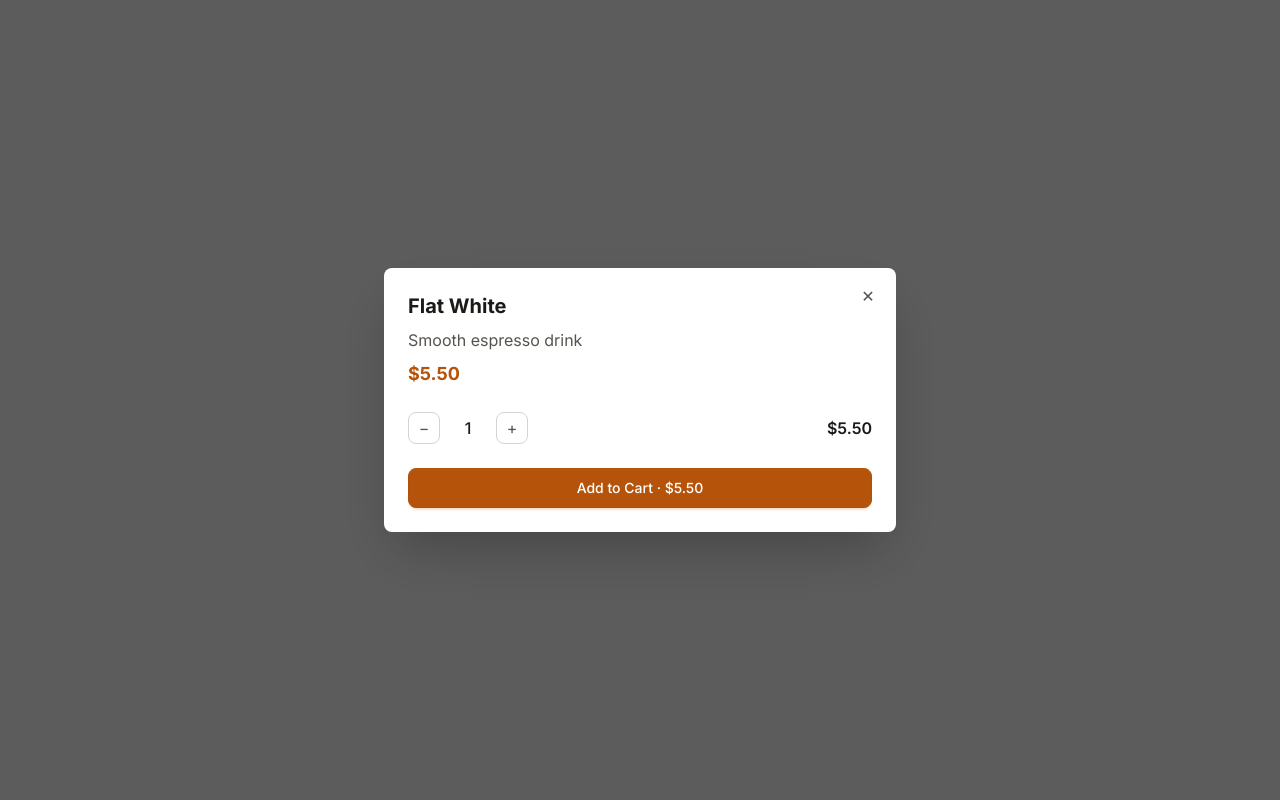
Test: MenuItemDetail › decrements quantity when − is clicked
What coordinates should you click on to do the following:
click the button "+"
I would click on:
 (512, 428)
Its box is x1=496 y1=412 x2=528 y2=444.
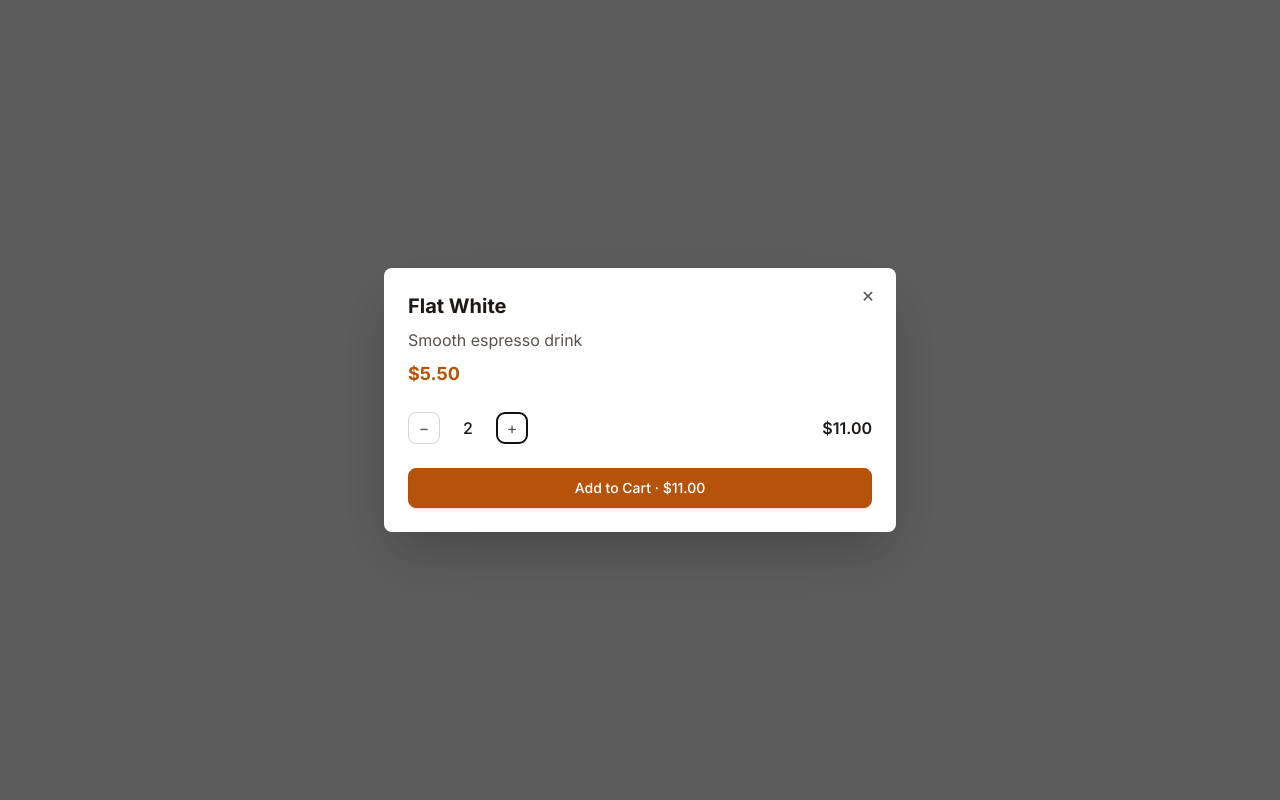
What coordinates should you click on to do the following:
click the button "+"
I would click on:
 (512, 428)
Its box is x1=496 y1=412 x2=528 y2=444.
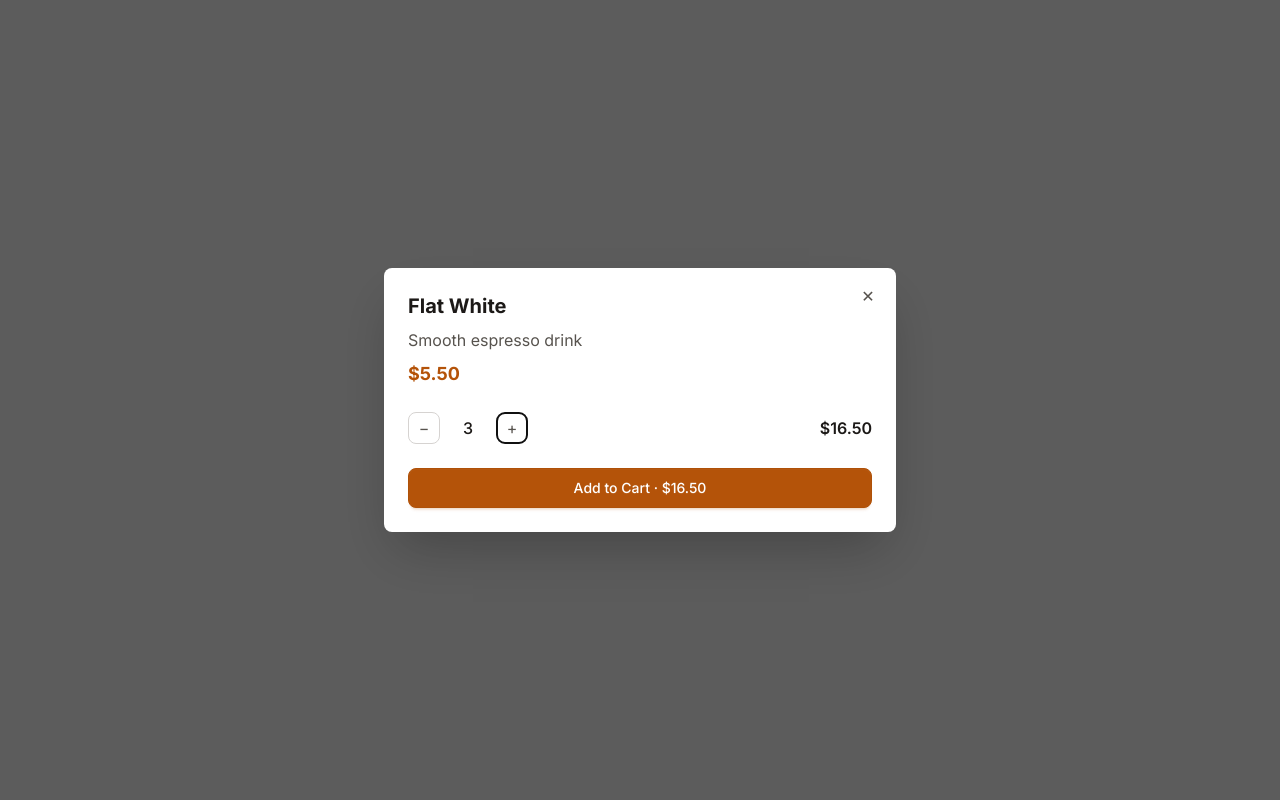
Now the text "3" is shown, box x1=463 y1=418 x2=473 y2=438
What coordinates should you click on to do the following:
click the button "−"
I would click on:
 (424, 428)
Its box is x1=408 y1=412 x2=440 y2=444.
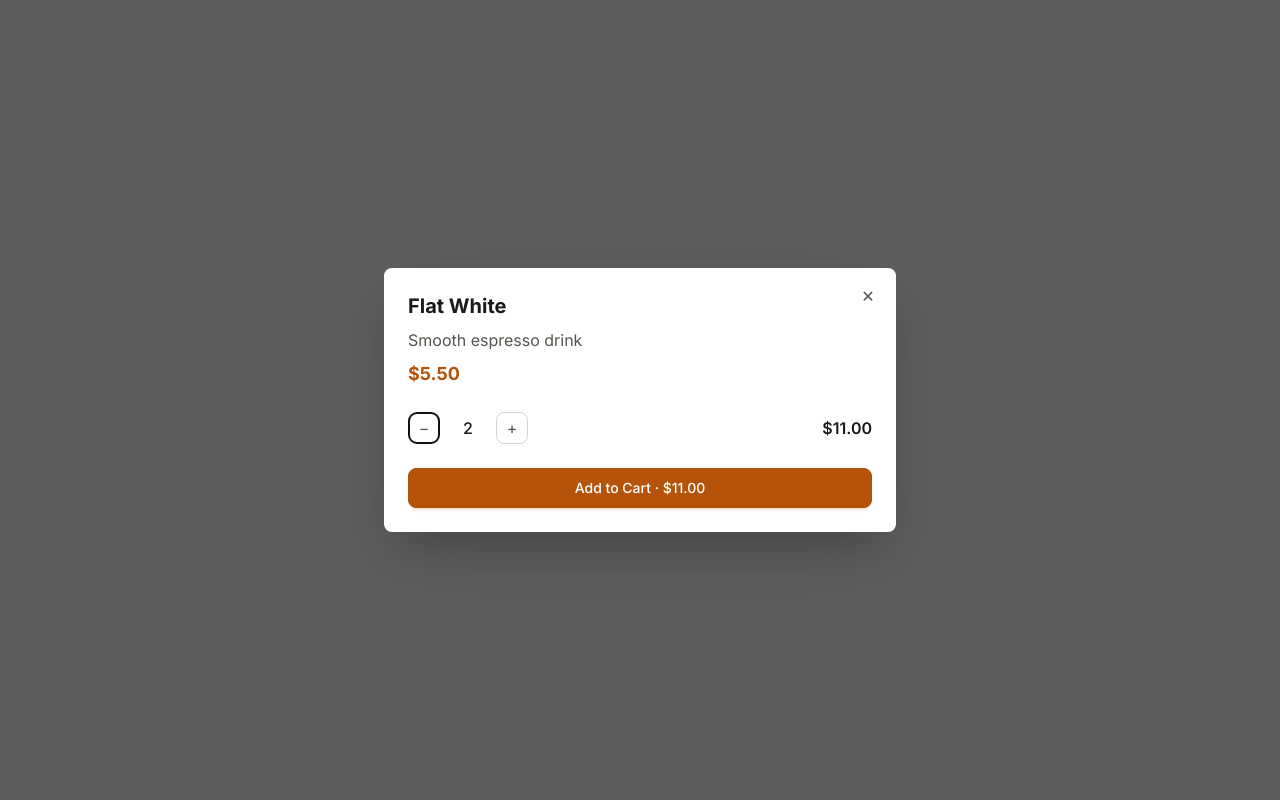
Now the text "2" is shown, box x1=463 y1=418 x2=473 y2=438
